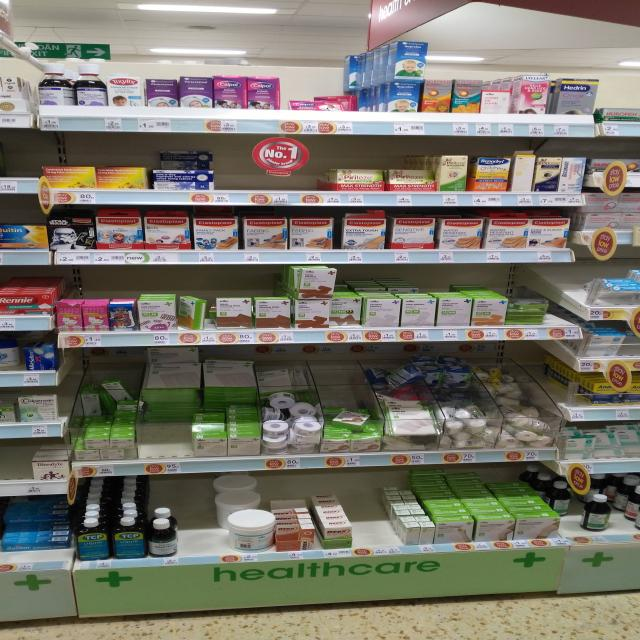void: (216, 132, 330, 192), (330, 466, 401, 548), (166, 473, 225, 558), (0, 128, 41, 178)
